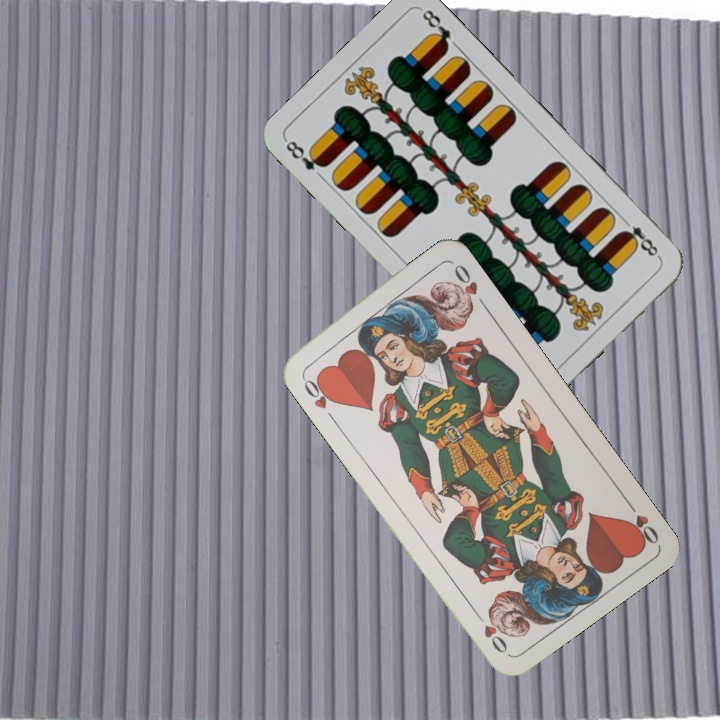E8: (617, 214, 663, 261), (281, 136, 330, 174)
HO: (620, 494, 662, 549), (297, 370, 340, 422)
